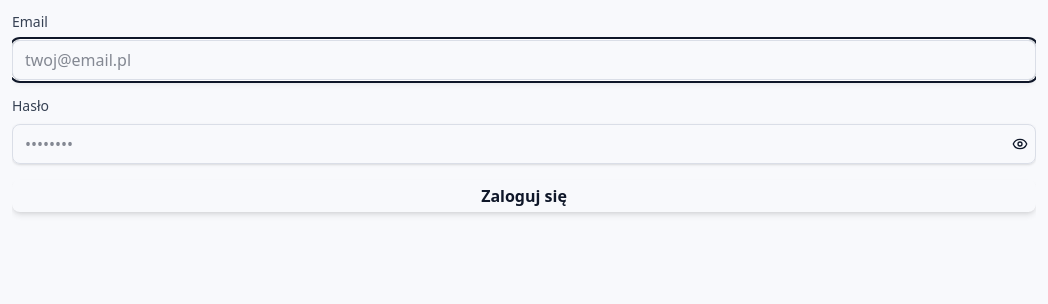
Test: LoginForm › Error Handling › should show error message for 400 Bad Request
Type "test@example.com" into the field labelled "Email" at (524, 60), box top-left (12, 40), bottom-right (1036, 80)
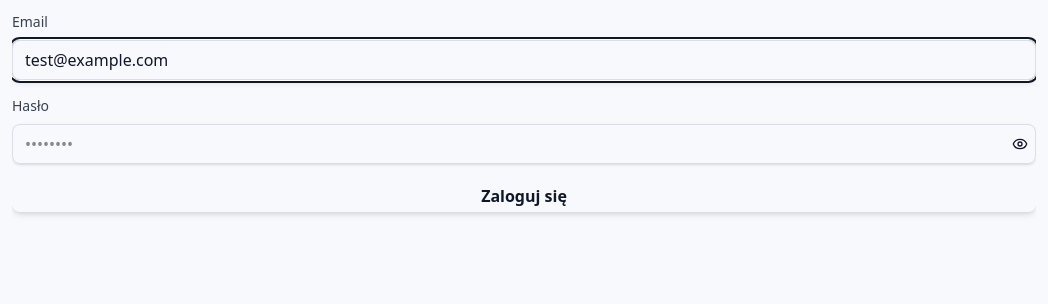
Type "wrongpassword" into the password field labelled "Hasło" at (524, 144), box top-left (12, 124), bottom-right (1036, 164)
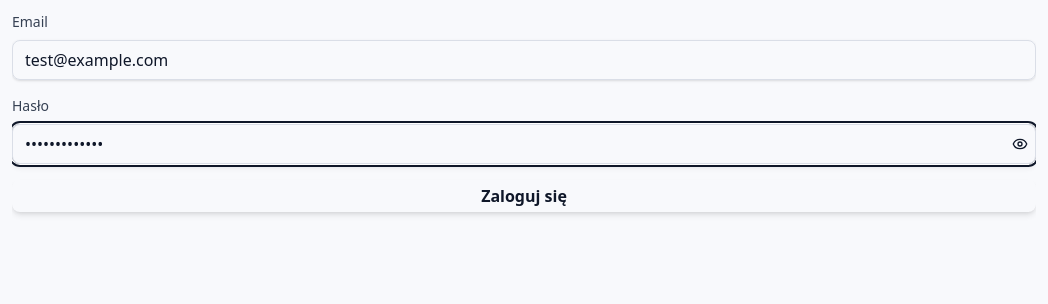
Click the button "Zaloguj się" at (524, 196), box top-left (12, 180), bottom-right (1036, 212)
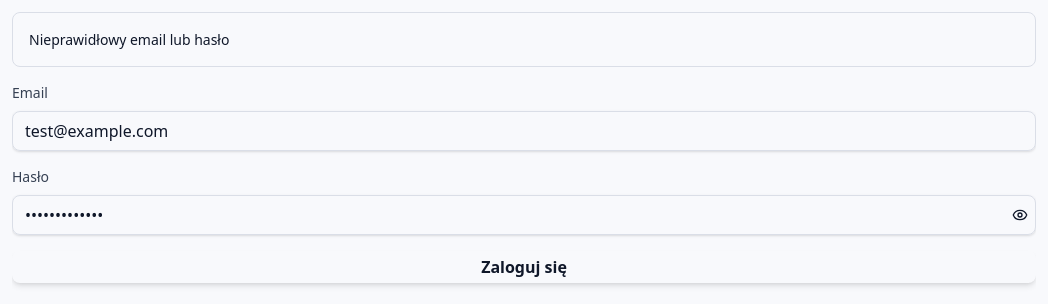
Expected: the text "Nieprawidłowy email lub hasło" is shown, top-left (29, 30), bottom-right (229, 49)
